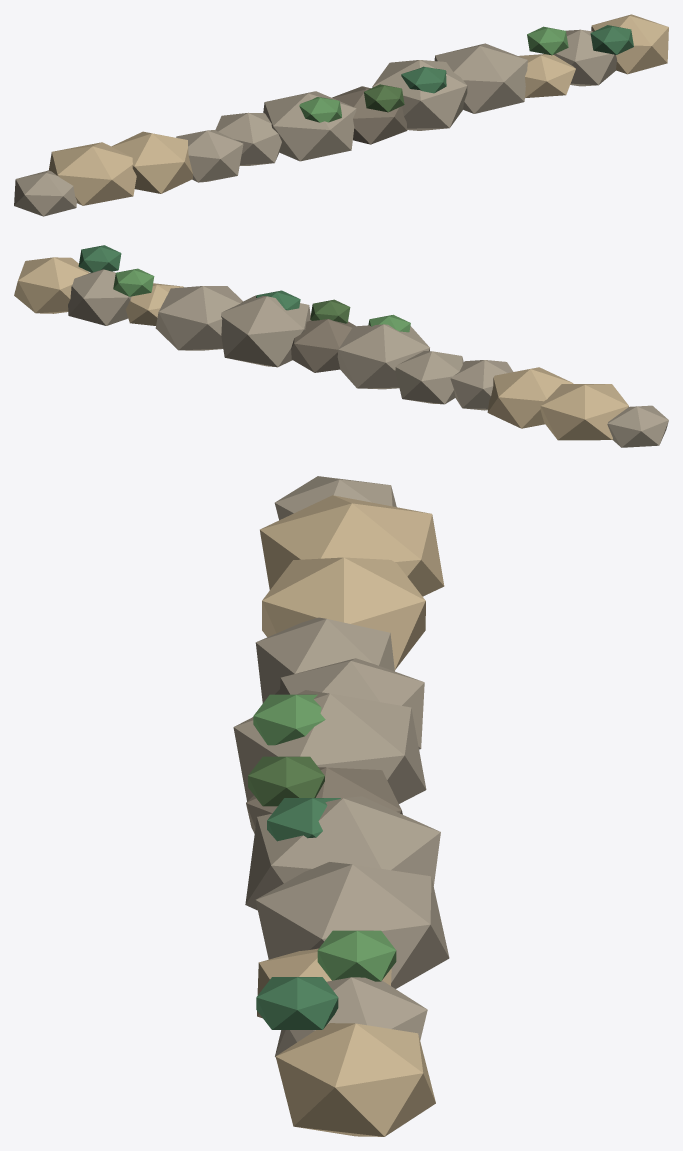
Rendered from berge.glb.
3 renders of one model, top to bottom at view 1: azimuth 30°, elevation 25°; view 2: azimuth 150°, elevation 25°; view 3: azimuth 270°, elevation 25°, orthographic. The views are drawn at different scales.
Visible parts, largest first — view 1: berge; view 2: berge; view 3: berge.
Boxes of the visible parts, x1,y1,x2,y2 form: berge: [14, 14, 668, 216]; berge: [14, 245, 668, 447]; berge: [233, 476, 449, 1136].
Bounding box in the file's own units: 6.34 × 0.6645 × 0.9272.
